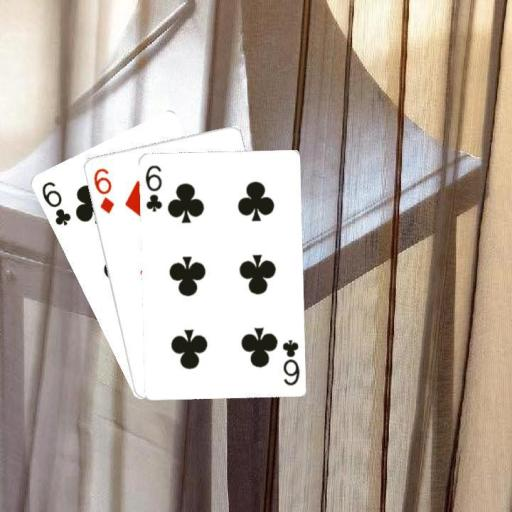6C: (38, 178, 72, 227), (142, 162, 164, 213), (279, 336, 301, 386)
6D: (90, 164, 115, 215)
